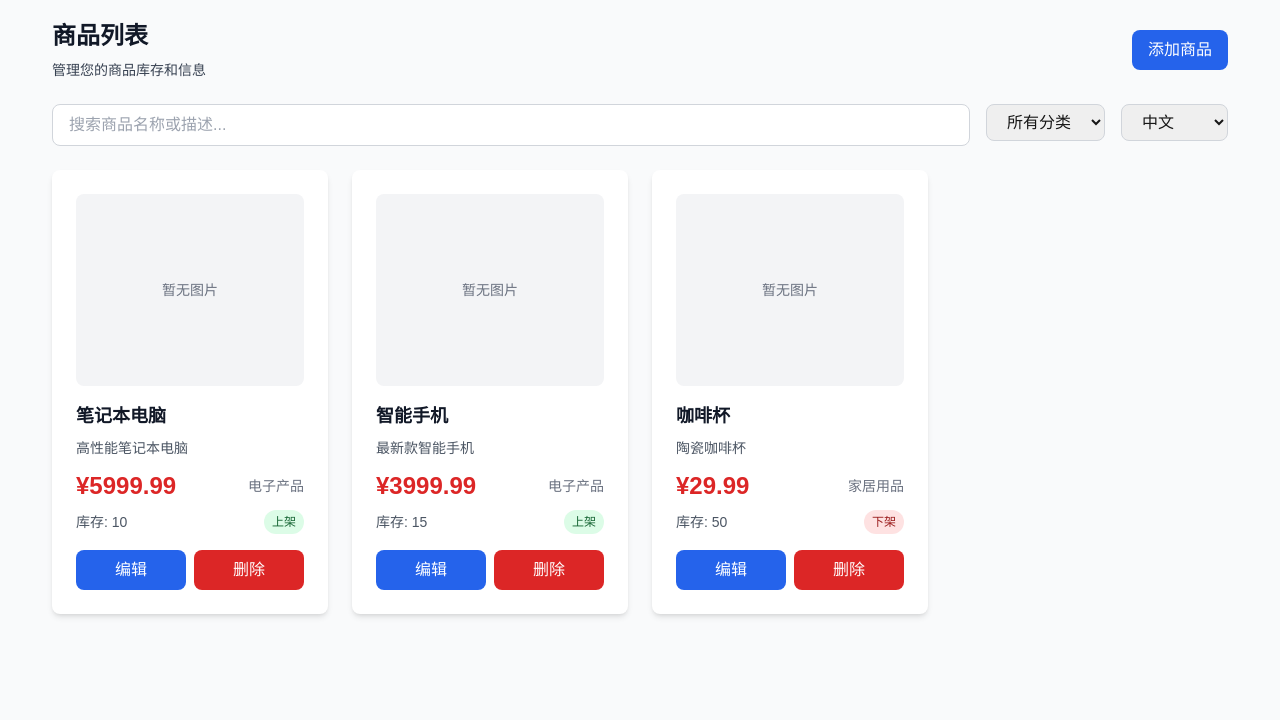
it: HomePage › filters products by search term
Check: the heading "笔记本电脑" is shown, box [76,406,166,426]
Step 1. Type "笔记本" into the field with placeholder "搜索商品名称或描述..." → [511, 125], box [52,104,970,146]
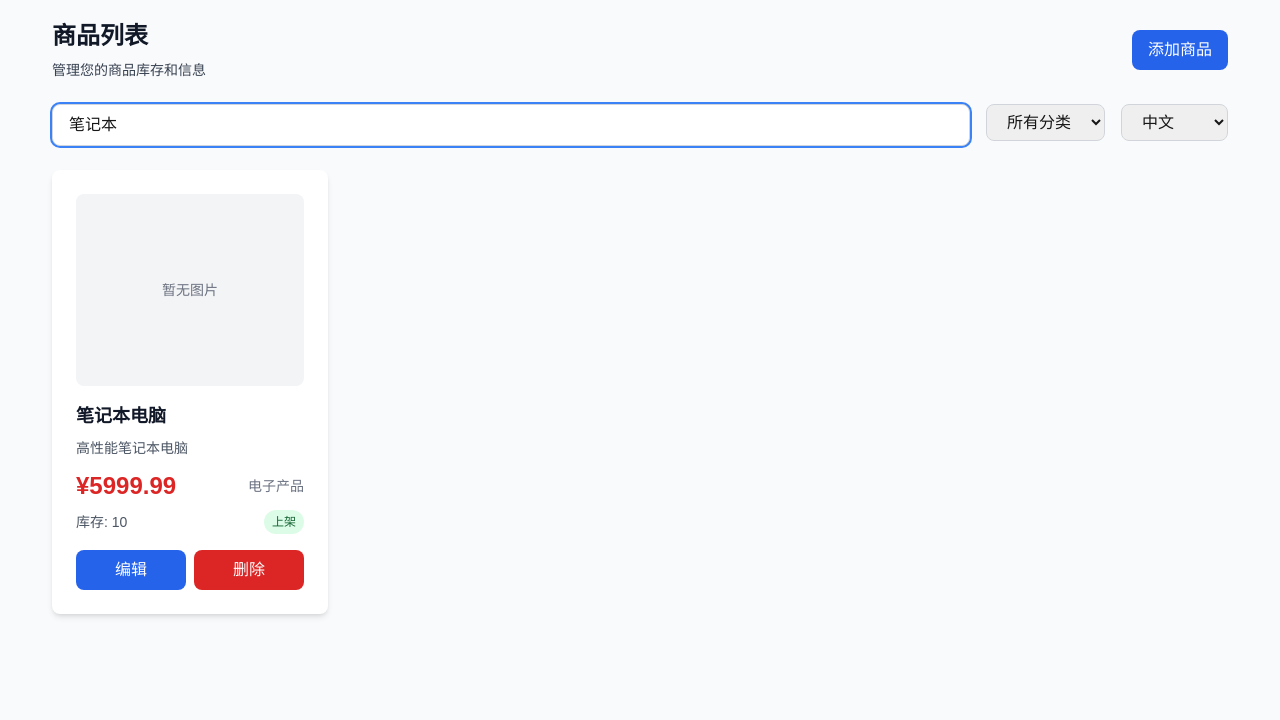
Check: the heading "笔记本电脑" is shown, box [76,406,166,426]
Check: the heading "智能手机" is gone
Check: the heading "咖啡杯" is gone
